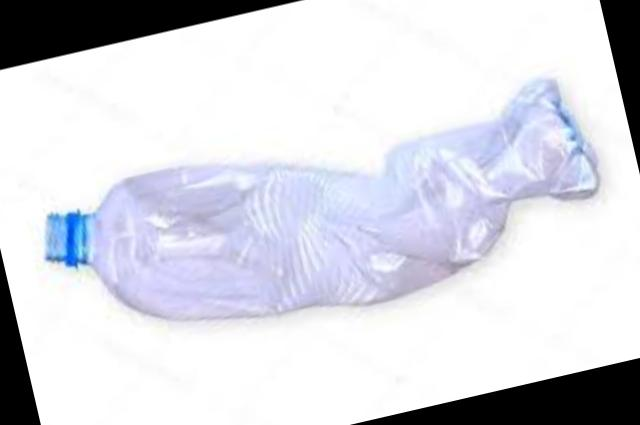plastic: (48, 74, 601, 312)
